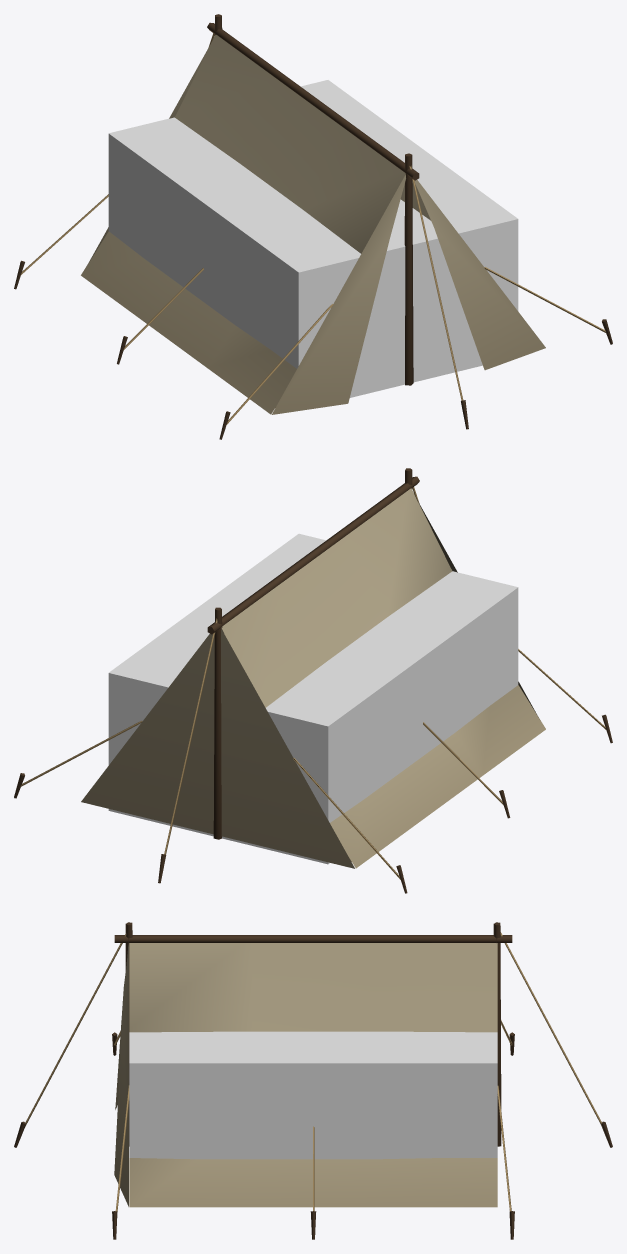
File: tent_a.glb
3 views of the same model, one above another, from view 1: azimuth 30°, elevation 25°; view 2: azimuth 150°, elevation 25°; view 3: azimuth 270°, elevation 25° (orthographic). The views are drawn at different scales.
Parts seen in each view (by area): view 1: COL_tent, tent_a; view 2: tent_a, COL_tent; view 3: tent_a, COL_tent.
Boxes of the visible parts, box(x1,y1,x2,y2) form: COL_tent: box(108, 80, 518, 397); tent_a: box(14, 14, 612, 439); tent_a: box(14, 468, 612, 893); COL_tent: box(108, 533, 518, 864); tent_a: box(14, 922, 612, 1239); COL_tent: box(129, 1031, 497, 1159).
Size of the model in its own units: 3.58 by 2.01 by 4.88.
